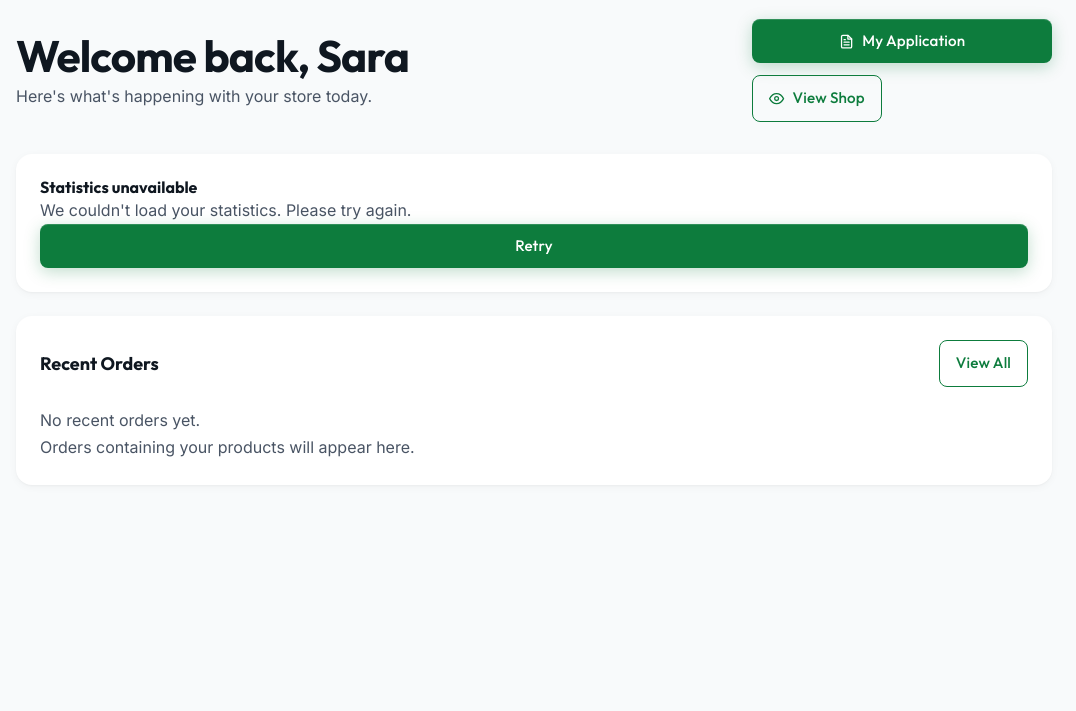
Test: MerchantDashboard — real data only › retrying a failed profile request updates only the profile slice
Expected: the element with test id "stats-error" is shown, [16,154,1052,292]
Click the button with test id "retry-stats" at [534, 246], box [40,224,1028,268]
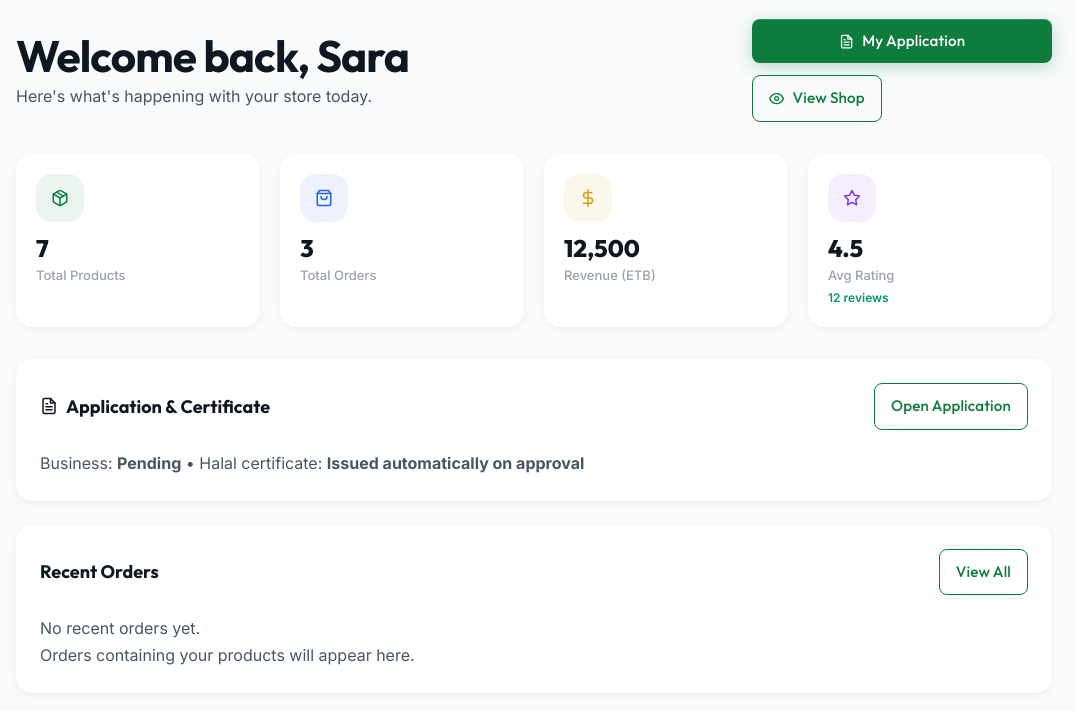
Expected: the text "12,500" is shown, [564,233,640,263]
